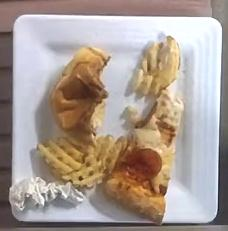burger: (51, 47, 111, 143)
fries: (38, 136, 127, 188), (135, 36, 180, 96)
pizza: (105, 90, 184, 223)
